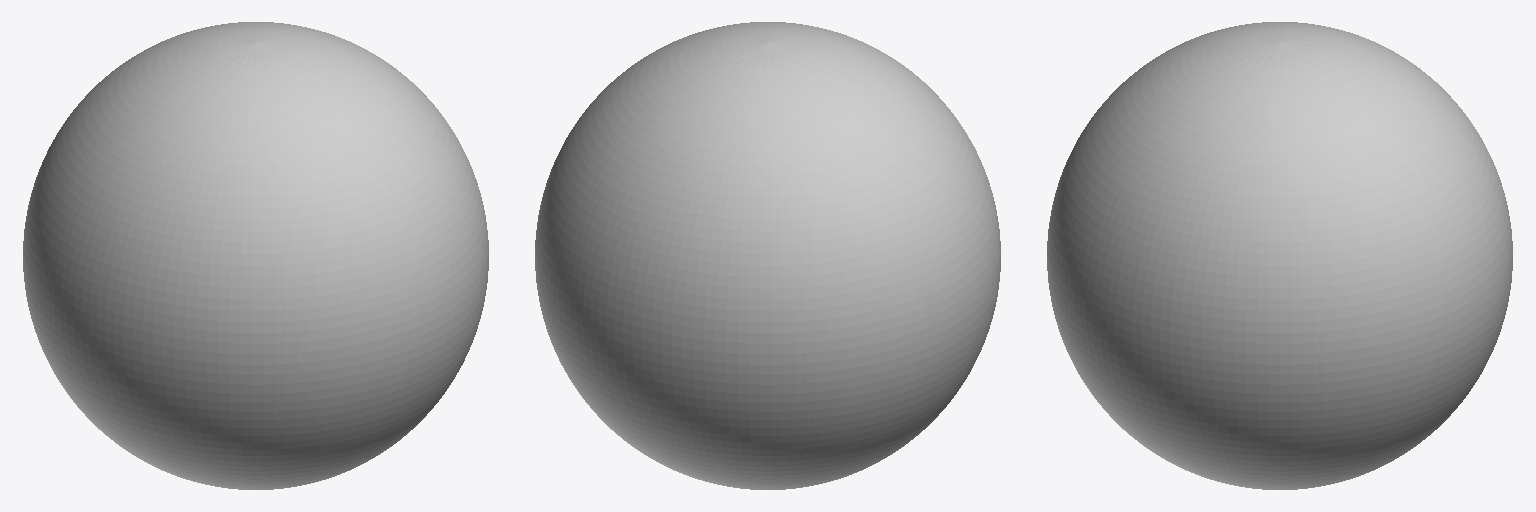
File: planet.obj
The picture shows the model from 3 angles: view 1: azimuth 30°, elevation 25°; view 2: azimuth 150°, elevation 25°; view 3: azimuth 270°, elevation 25°; orthographic projection.
Parts seen in each view (by area): view 1: Sphere; view 2: Sphere; view 3: Sphere.
Part boxes in pixels (x1,y1,x2,y2): Sphere: (23,22,488,489); Sphere: (535,22,1000,489); Sphere: (1047,22,1512,489).
Size of the model in its own units: 21.62 by 21.85 by 21.62.